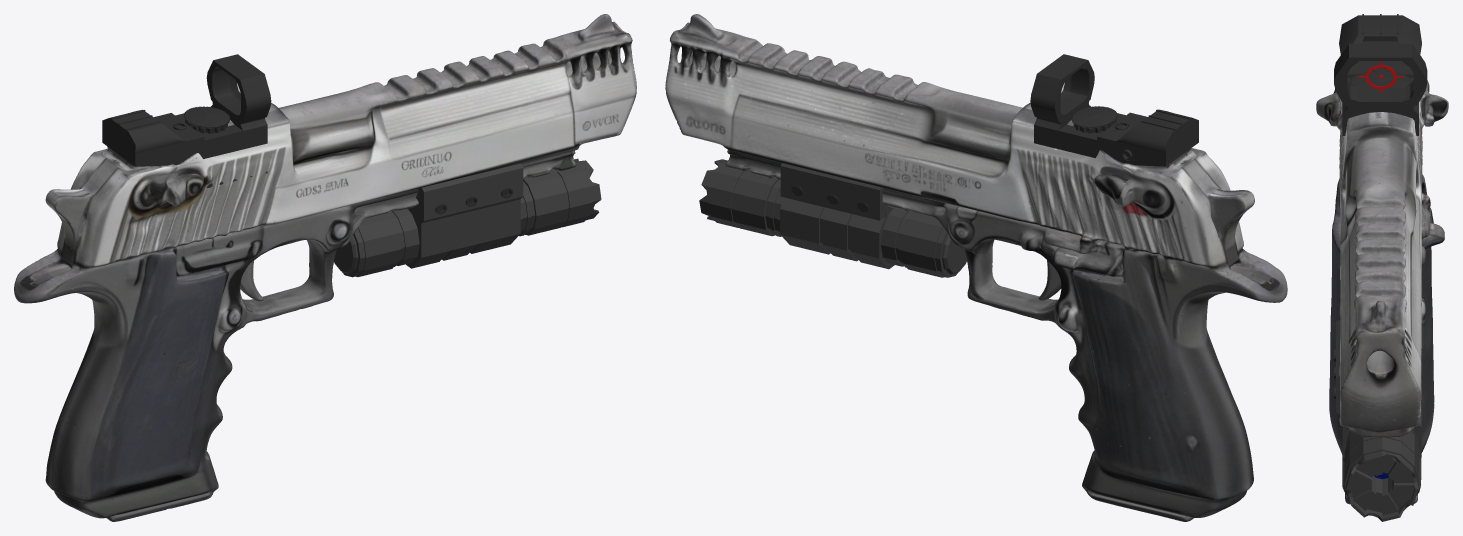
The model's file is pistol_complete.gltf.
3 views of the same model, side by side, from view 1: azimuth 30°, elevation 25°; view 2: azimuth 150°, elevation 25°; view 3: azimuth 270°, elevation 25° (orthographic). The views are drawn at different scales.
Parts seen in each view (by area): view 1: Frame, Cylinder_TBL_Body_0, Cylinder_001_TBL_Body_0, pCube36_lambert4_0, pCube33_lambert4_0, pGear3_lambert4_0; view 2: Frame, Cylinder_TBL_Body_0, pCube36_lambert4_0, Cylinder_001_TBL_Body_0, Cylinder_002_TBL_Body_0, pCube33_lambert4_0, pGear3_lambert4_0; view 3: Frame, Cylinder_TBL_Body_0, pCube36_lambert4_0, pCube33_lambert4_0, pCube40_lambert3_0, Cylinder_001_TBL_Body_0, pGear3_lambert4_0, pCube45_lambert5_0.
Part boxes in pixels (x1=…): Frame: x1=14, y1=14, x2=636, y2=521; Cylinder_TBL_Body_0: x1=334, y1=158, x2=601, y2=277; Cylinder_001_TBL_Body_0: x1=406, y1=163, x2=523, y2=268; pCube36_lambert4_0: x1=102, y1=99, x2=267, y2=166; pCube33_lambert4_0: x1=206, y1=54, x2=271, y2=122; pGear3_lambert4_0: x1=184, y1=106, x2=230, y2=128; Frame: x1=665, y1=14, x2=1287, y2=521; Cylinder_TBL_Body_0: x1=699, y1=159, x2=966, y2=277; pCube36_lambert4_0: x1=1034, y1=98, x2=1198, y2=166; Cylinder_001_TBL_Body_0: x1=780, y1=197, x2=894, y2=269; Cylinder_002_TBL_Body_0: x1=780, y1=163, x2=885, y2=220; pCube33_lambert4_0: x1=1030, y1=54, x2=1094, y2=122; pGear3_lambert4_0: x1=1071, y1=106, x2=1117, y2=128; Frame: x1=1316, y1=55, x2=1448, y2=504; Cylinder_TBL_Body_0: x1=1344, y1=428, x2=1419, y2=521; pCube36_lambert4_0: x1=1339, y1=15, x2=1421, y2=135; pCube33_lambert4_0: x1=1334, y1=43, x2=1427, y2=105; pCube40_lambert3_0: x1=1347, y1=61, x2=1413, y2=97; Cylinder_001_TBL_Body_0: x1=1336, y1=320, x2=1421, y2=458; pGear3_lambert4_0: x1=1350, y1=70, x2=1411, y2=87; pCube45_lambert5_0: x1=1358, y1=61, x2=1403, y2=93.
Size of the model in its own units: 0.2005 by 0.1302 by 0.0326.
8 materials, 1 textured.
